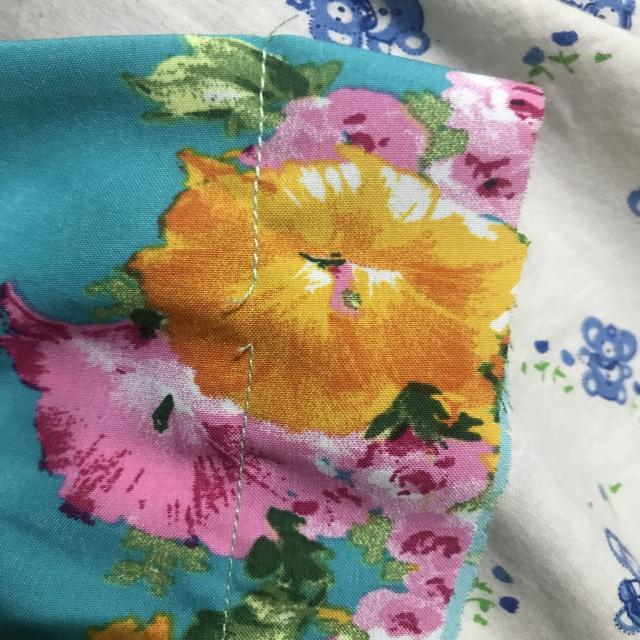broken: (227, 265, 272, 379)
good: (237, 178, 279, 244)
